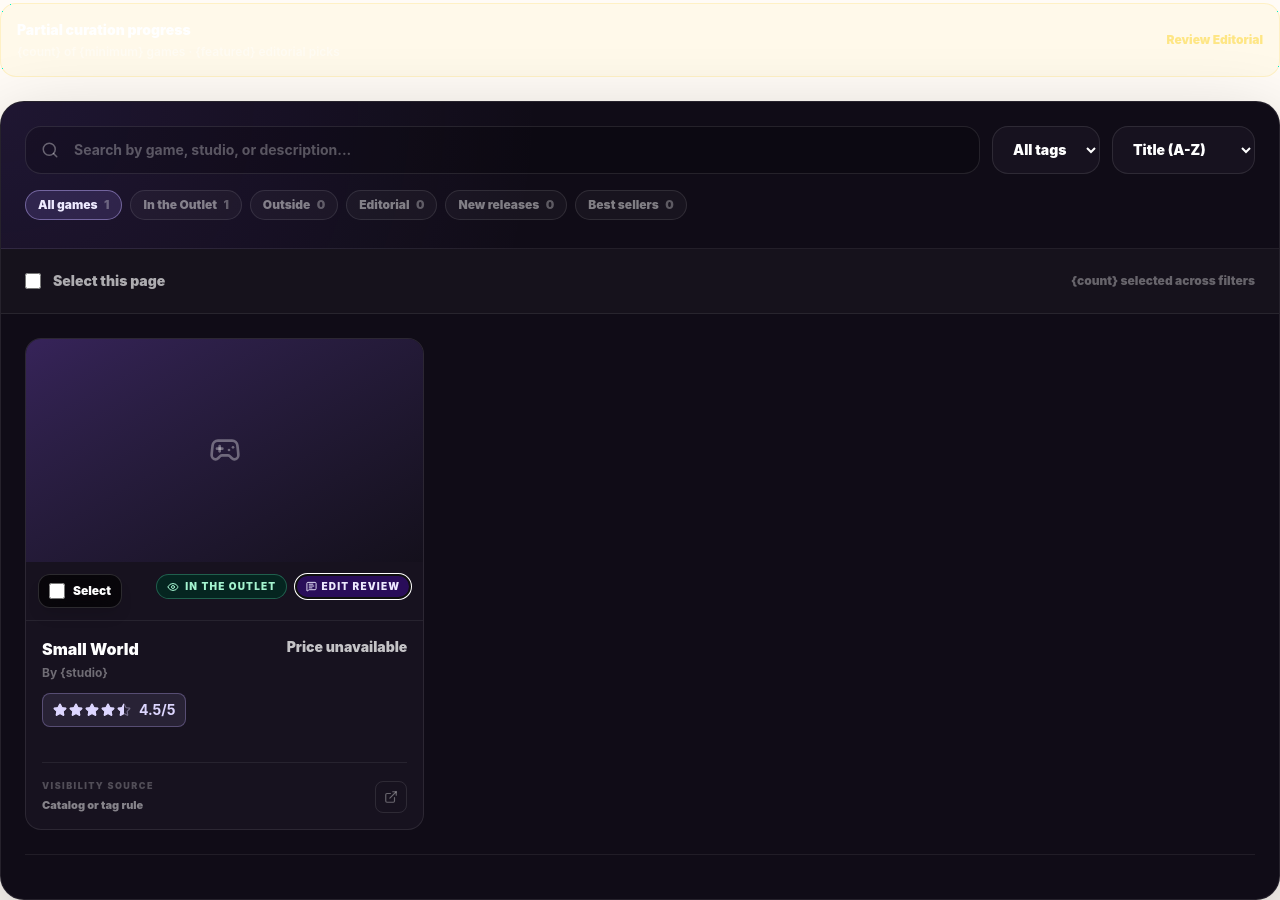
keeps focus in a busy dialog, blocks dismissal, and sends repeated Save clicks once
(page scrolled)
Click the button "Edit review" at (353, 587), box x1=295 y1=574 x2=411 y2=599
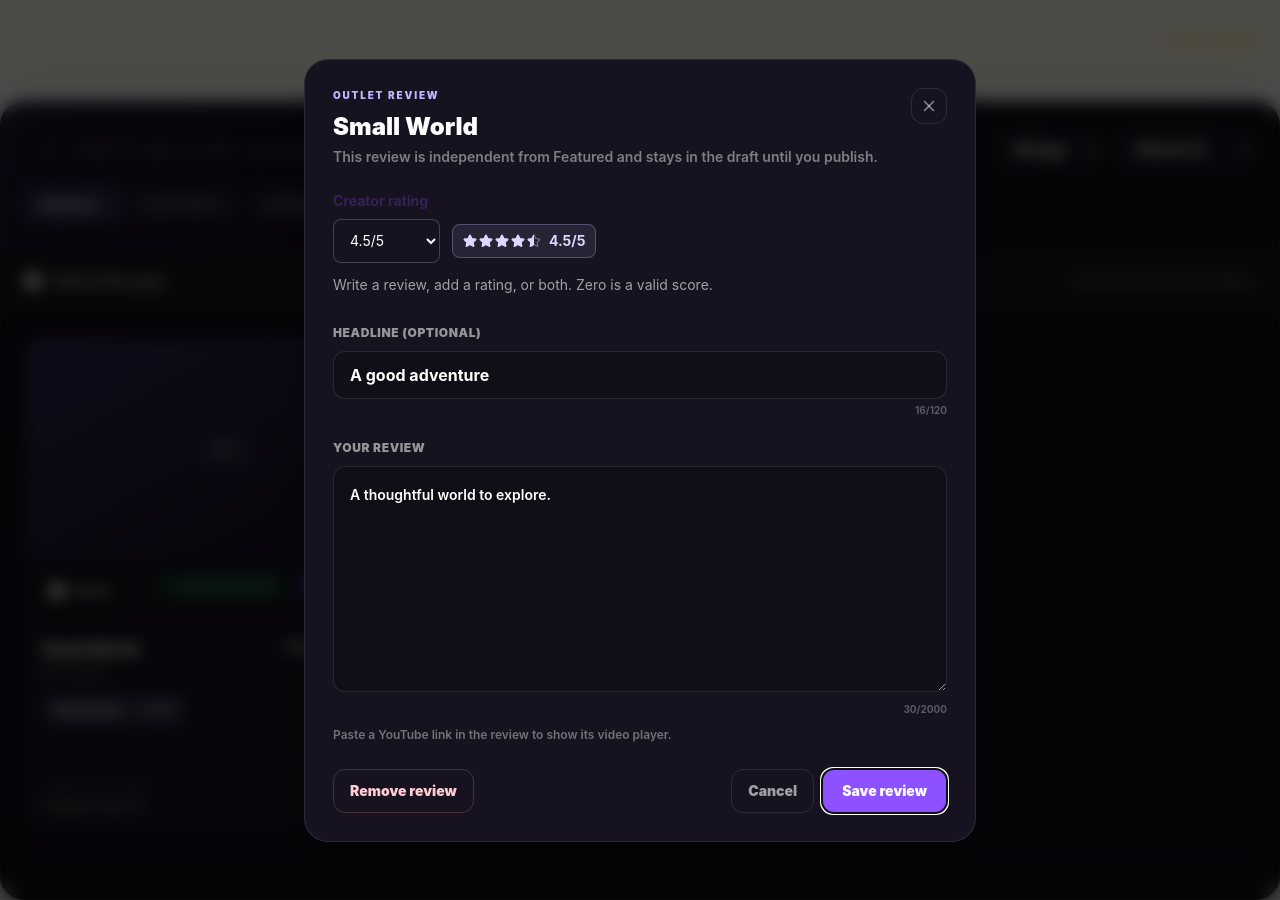
Click the button "Save review" at (885, 790), box x1=822 y1=768 x2=947 y2=812
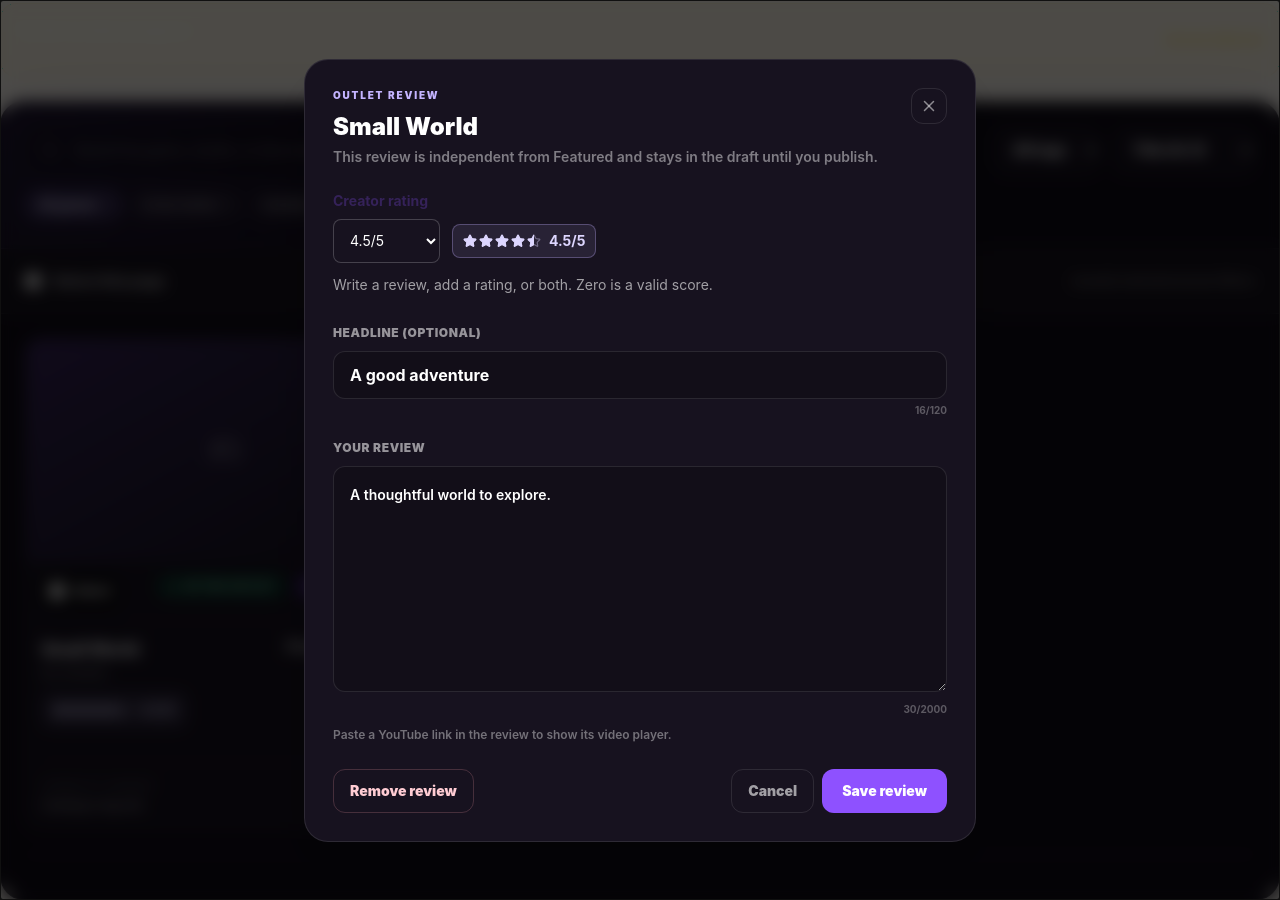
Click the button "Save review" at (885, 790), box x1=822 y1=768 x2=947 y2=812
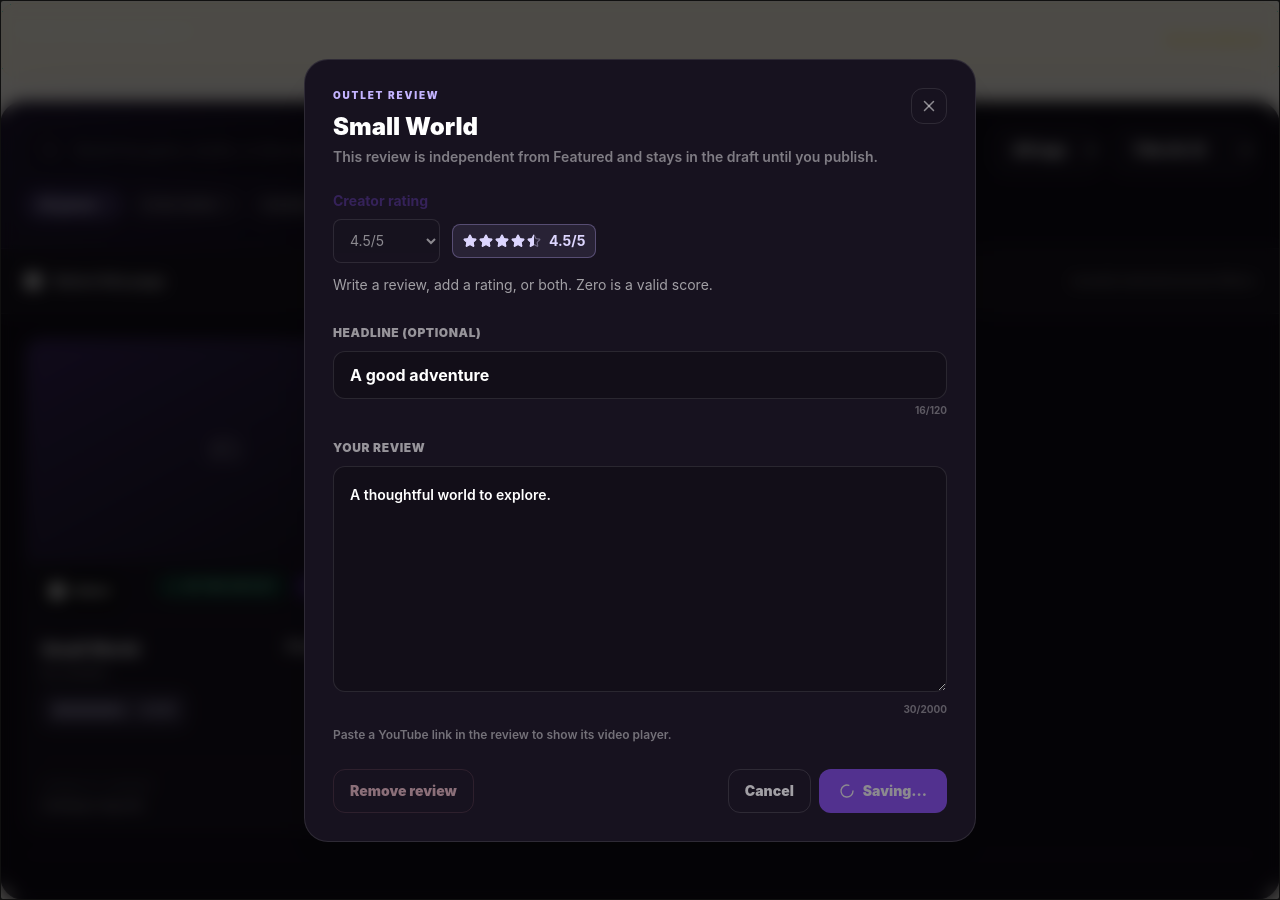
Now the dialog has attribute aria-busy="true"
Press Tab in the dialog
Press Tab in the dialog
Press Escape in the dialog
Press the mouse on the dialog at (640, 450), box x1=0 y1=0 x2=1279 y2=899
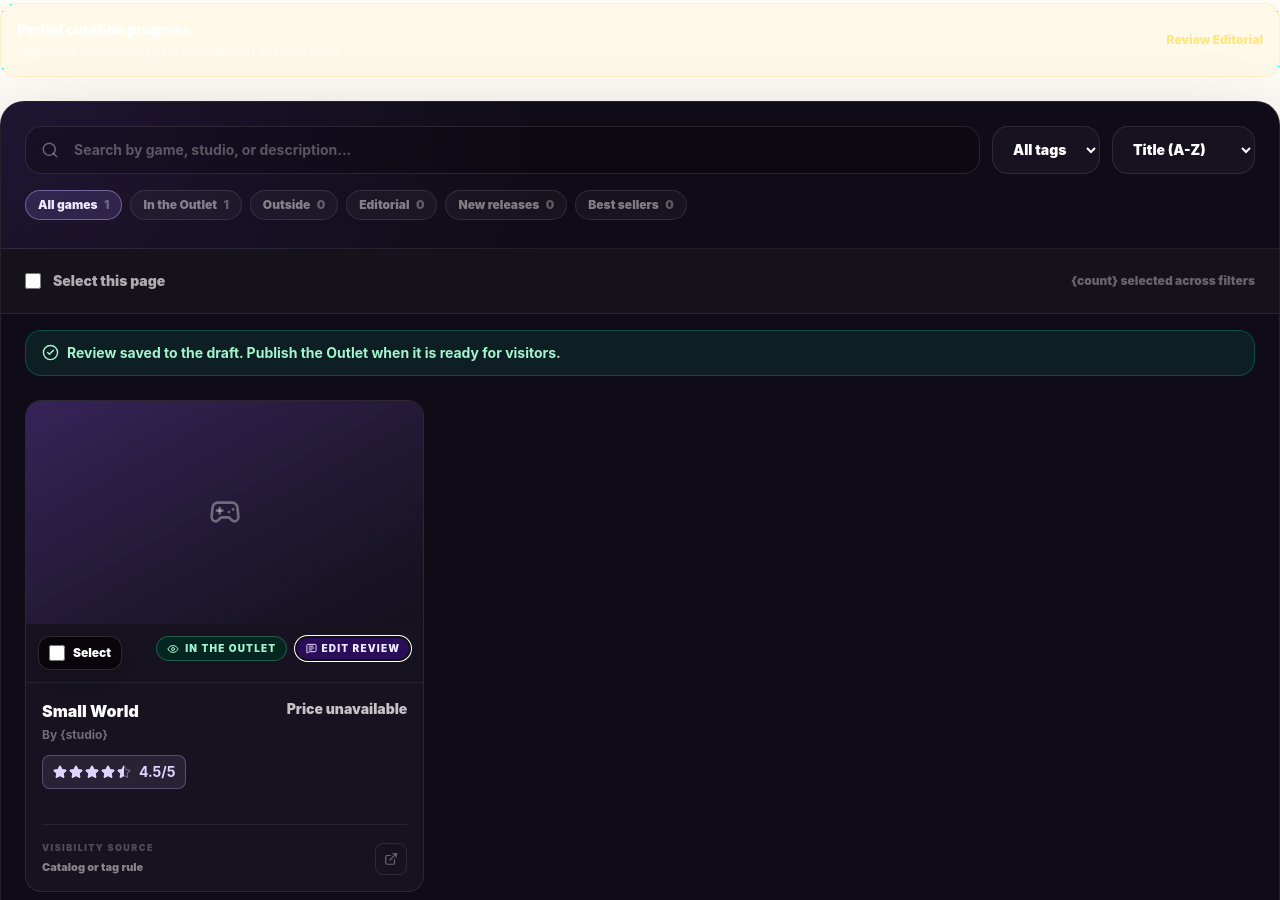
Now the dialog is gone
